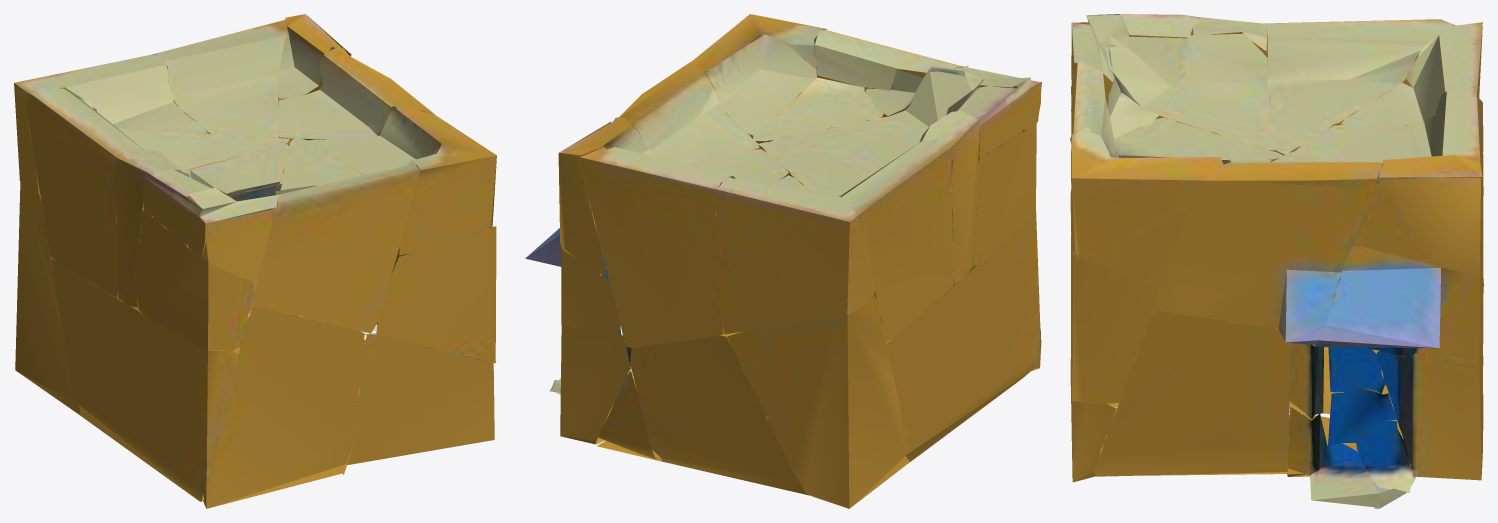
Rendered from loc_sa_bld_warmhouse.glb.
3 renders of one model, left to right at view 1: azimuth 30°, elevation 25°; view 2: azimuth 150°, elevation 25°; view 3: azimuth 270°, elevation 25°, orthographic. The views are drawn at different scales.
Visible parts, largest first — view 1: tripo_node_f9425141-9d6d-4b2f-981f-34641ace96d5; view 2: tripo_node_f9425141-9d6d-4b2f-981f-34641ace96d5; view 3: tripo_node_f9425141-9d6d-4b2f-981f-34641ace96d5.
Boxes of the visible parts, box(x1,y1,x2,y2) form: tripo_node_f9425141-9d6d-4b2f-981f-34641ace96d5: box(14, 14, 496, 508); tripo_node_f9425141-9d6d-4b2f-981f-34641ace96d5: box(525, 14, 1041, 508); tripo_node_f9425141-9d6d-4b2f-981f-34641ace96d5: box(1070, 14, 1483, 508).
Size of the model in its own units: 2.14 by 1.75 by 2.02.
Materials: 1 (1 with a texture image).
